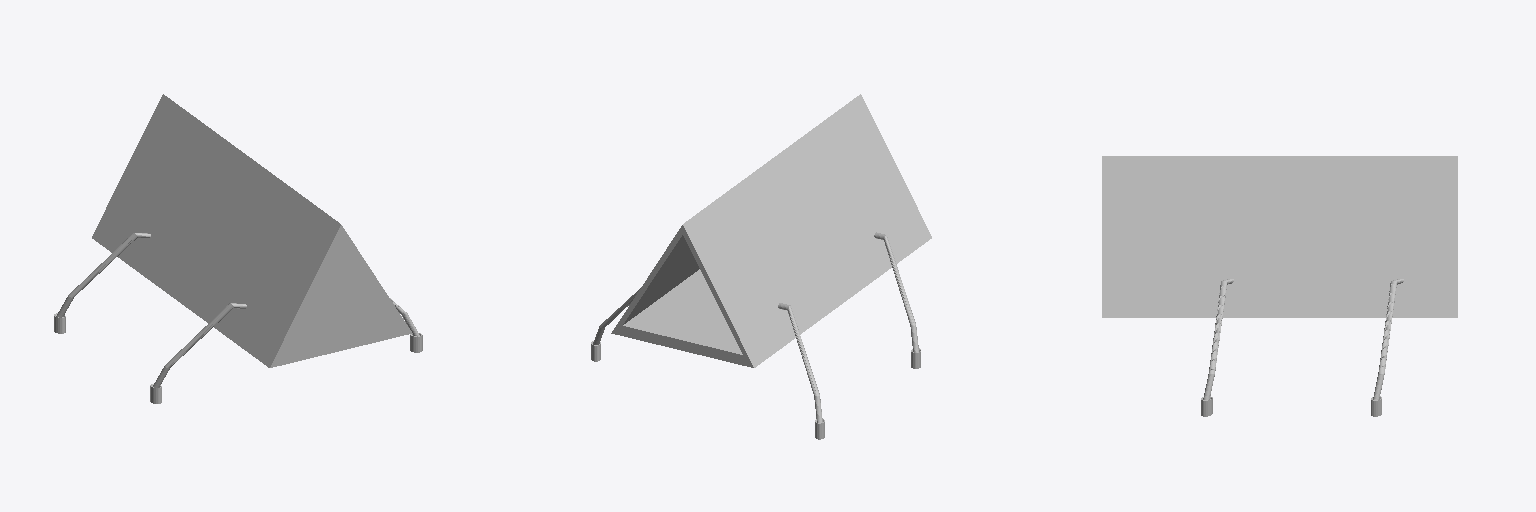
The model's file is tent 3.obj.
The picture shows the model from 3 angles: view 1: azimuth 30°, elevation 25°; view 2: azimuth 150°, elevation 25°; view 3: azimuth 270°, elevation 25°; orthographic projection.
Visible parts, largest first — view 1: pCylinder14; view 2: pCylinder14; view 3: pCylinder14.
Boxes of the visible parts, box(x1,y1,x2,y2) form: pCylinder14: box(54, 94, 422, 403); pCylinder14: box(591, 94, 931, 439); pCylinder14: box(1102, 156, 1457, 416).
Bounding box in the file's own units: 12.76 × 9.3 × 15.33.